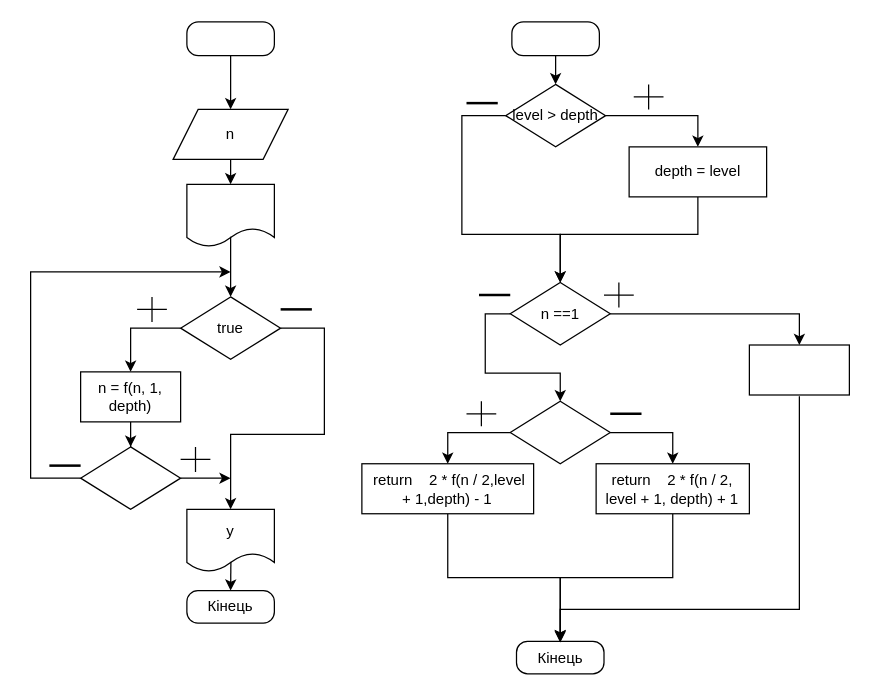
The diagram is 871 pixels wide and 696 high, and some of its shapes have lost their labels. The centre of each missing label's shape, as x and y in pixels:
"f(n)" goes at point 555,38.
"n % 2 == 0" goes at point 559,432.
"n == f(n, 1, depth" goes at point 130,477.
"return 1" goes at point 798,369.
"x, depth" goes at point 230,215.
"Початок" goes at point 230,38.
